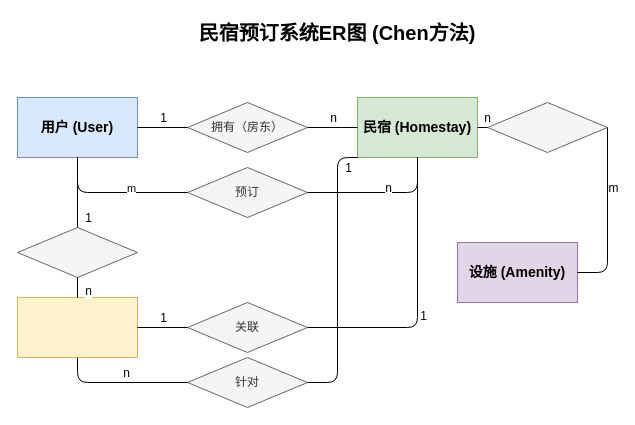
This 635x425 diagram has some shape labels left out. The centre of each missing label's shape, as x and y in pixels:
"包含" belongs at pixel 547 127.
"撰写" belongs at pixel 77 252.
"评价 (Review)" belongs at pixel 77 327.
